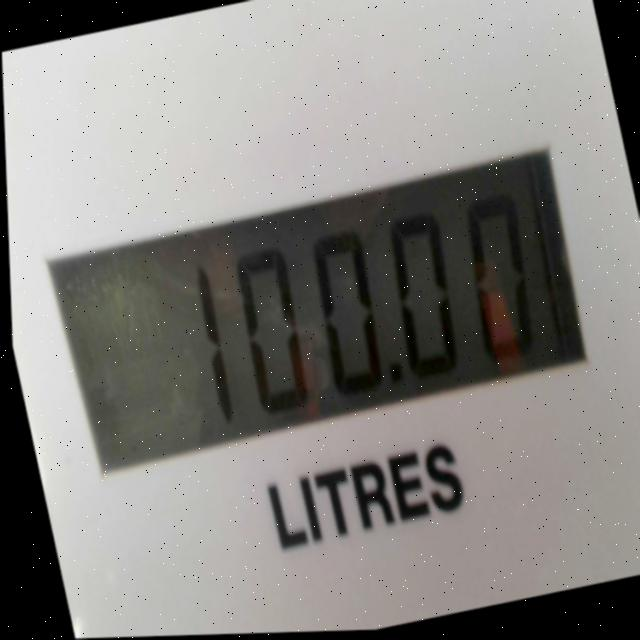.: (374, 353, 412, 408)
0: (292, 227, 409, 416), (434, 179, 547, 363), (369, 203, 474, 401), (222, 227, 325, 423)
1: (166, 243, 259, 430)
